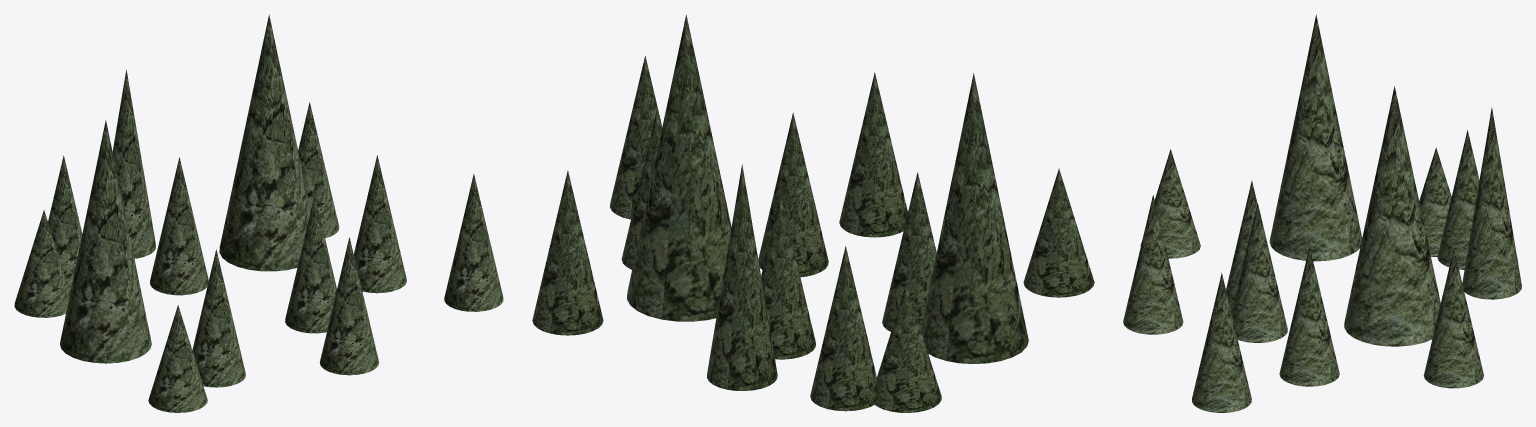
The model's file is spikes_ground.FBX.
3 renders of one model, left to right at view 1: azimuth 30°, elevation 25°; view 2: azimuth 150°, elevation 25°; view 3: azimuth 270°, elevation 25°, orthographic. The views are drawn at different scales.
Visible parts, largest first — view 1: Cone016; view 2: Cone016; view 3: Cone016.
Part boxes in pixels (x1,y1,x2,y2): Cone016: [14, 14, 503, 412]; Cone016: [532, 15, 1094, 412]; Cone016: [1123, 15, 1521, 412].
Bounding box in the file's own units: 7.5 × 5.18 × 6.61.
1 material, 1 textured.
